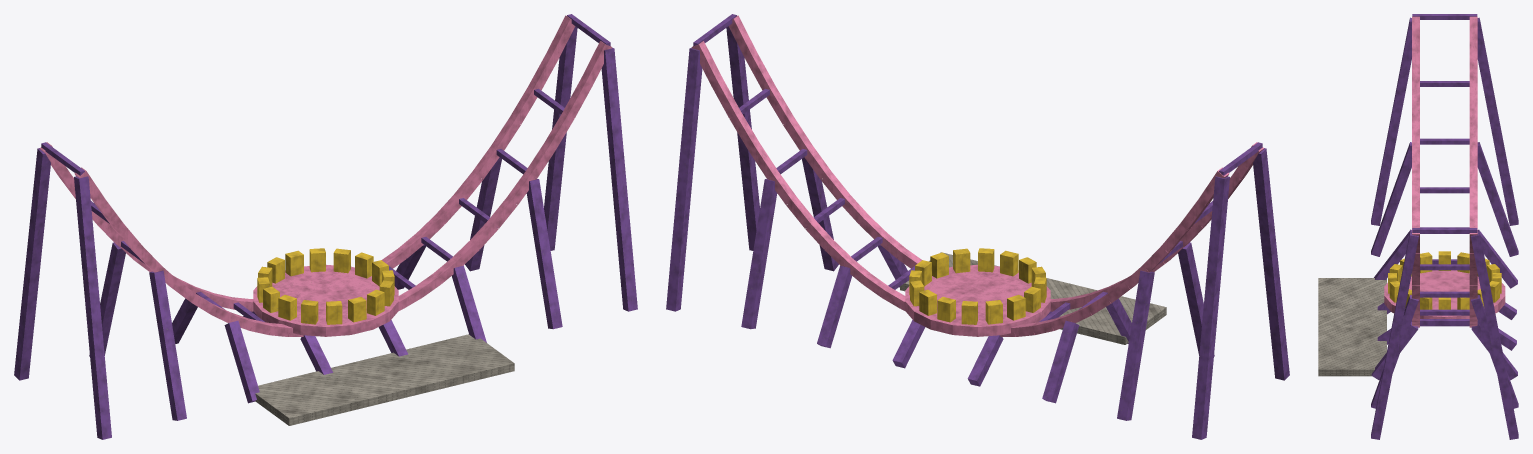
The model's file is Ride_GyroSpin.fbx.
3 renders of one model, left to right at view 1: azimuth 30°, elevation 25°; view 2: azimuth 150°, elevation 25°; view 3: azimuth 270°, elevation 25°, orthographic. The views are drawn at different scales.
Visible parts, largest first — view 1: Supports, Track, LoadingDeck, Spin_Disc; view 2: Supports, Track, Spin_Disc, LoadingDeck; view 3: Supports, Track, LoadingDeck, Spin_Disc.
Part boxes in pixels (left/top/right/bottom): Supports: left=14, top=26, right=637, bottom=439; Track: left=39, top=14, right=612, bottom=336; LoadingDeck: left=255, top=334, right=514, bottom=425; Spin_Disc: left=253, top=248, right=398, bottom=336; Supports: left=666, top=26, right=1289, bottom=439; Track: left=691, top=14, right=1264, bottom=336; Spin_Disc: left=905, top=248, right=1050, bottom=336; LoadingDeck: left=900, top=252, right=1166, bottom=344; Supports: left=1371, top=17, right=1518, bottom=439; Track: left=1412, top=14, right=1477, bottom=327; LoadingDeck: left=1318, top=278, right=1386, bottom=376; Spin_Disc: left=1384, top=251, right=1505, bottom=318.
Size of the model in its own units: 28.5 by 12.93 by 11.09.
